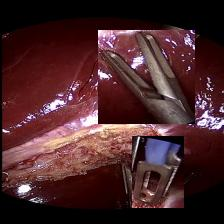Bipolar: (130, 136, 182, 208)
Grasper: (97, 30, 194, 124)
